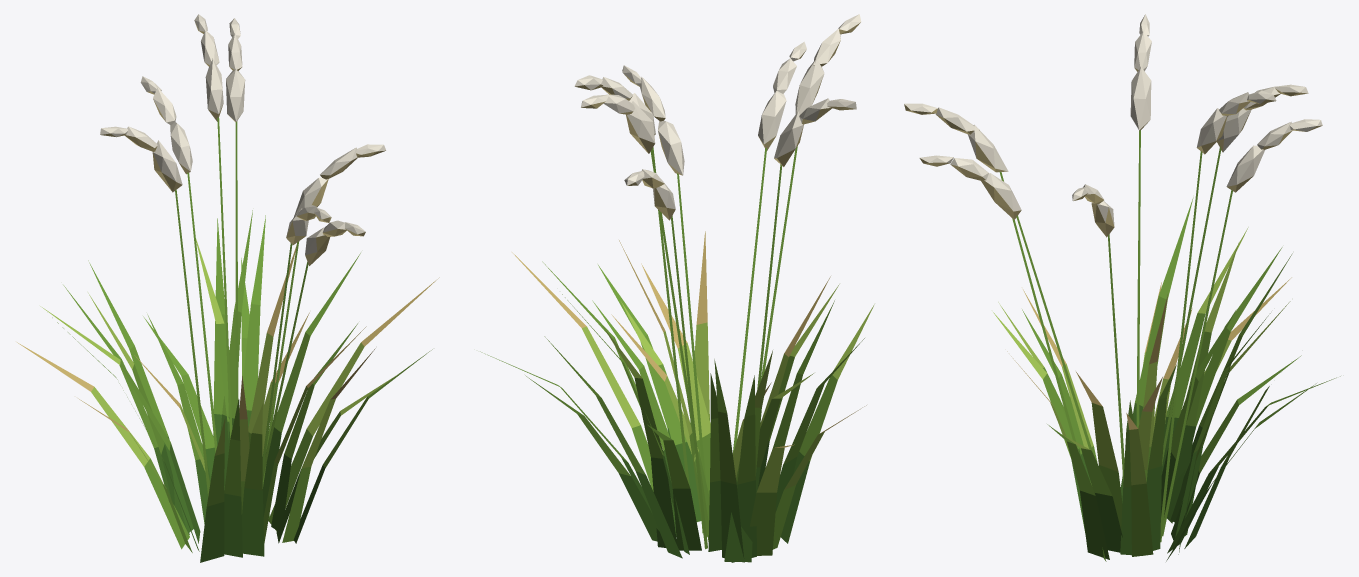
File: G04_TalahibInBloom.glb
3 renders of one model, left to right at view 1: azimuth 30°, elevation 25°; view 2: azimuth 150°, elevation 25°; view 3: azimuth 270°, elevation 25°, orthographic. The views are drawn at different scales.
Parts seen in each view (by area): view 1: G04_TalahibInBloom; view 2: G04_TalahibInBloom; view 3: G04_TalahibInBloom.
Boxes of the visible parts, x1,y1,x2,y2 form: G04_TalahibInBloom: [17, 14, 439, 562]; G04_TalahibInBloom: [480, 14, 874, 562]; G04_TalahibInBloom: [904, 14, 1340, 561].
Size of the model in its own units: 2.2 by 2.65 by 2.22.
